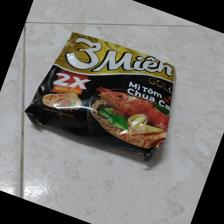3mien: (24, 31, 176, 160)
